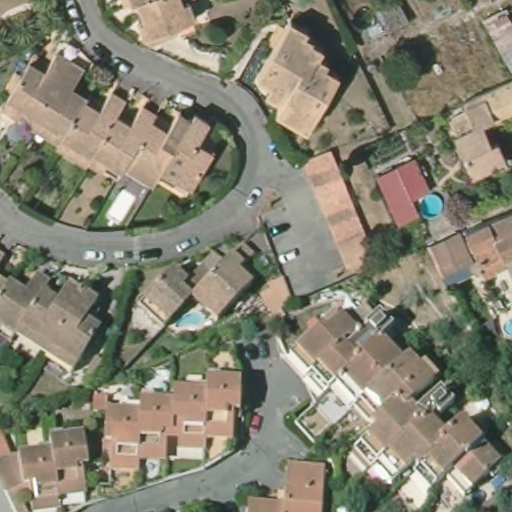pool: (173, 307, 208, 332), (416, 194, 447, 222), (501, 310, 512, 340)
